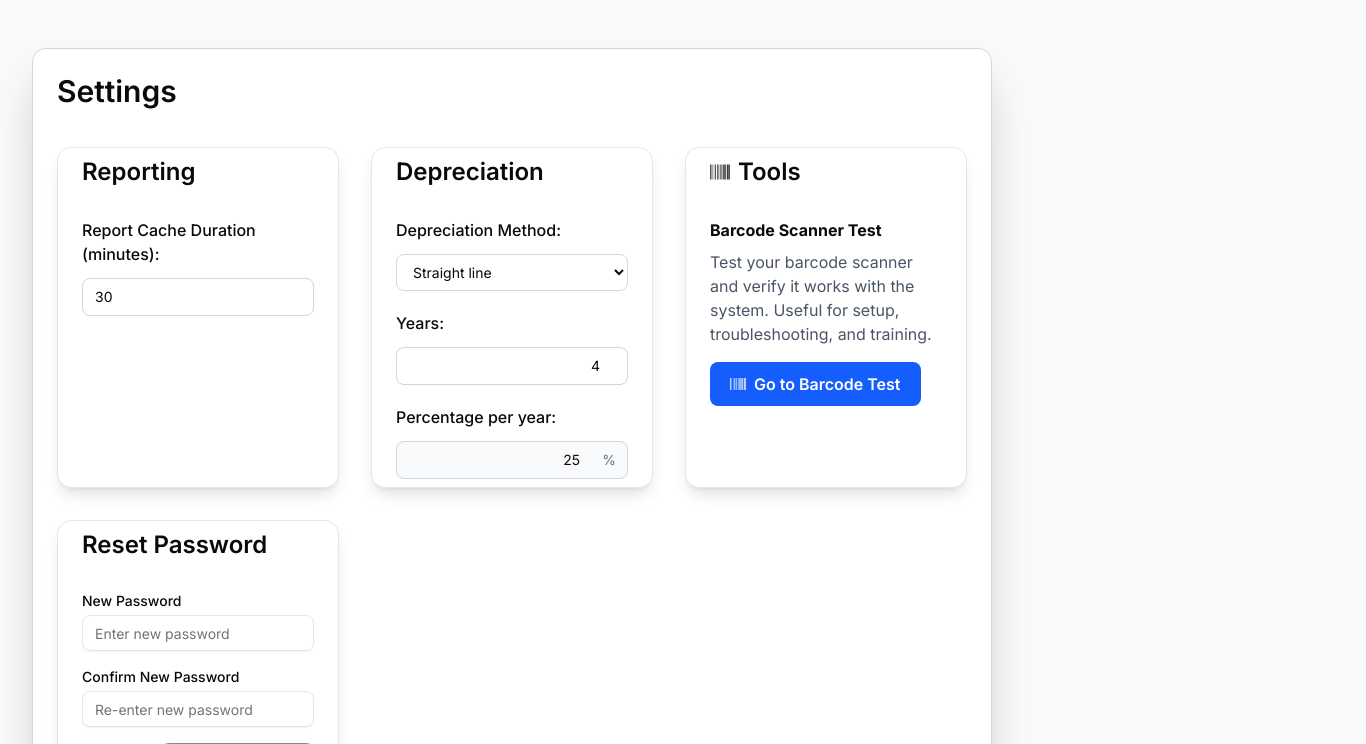
SettingsPage › allows changing and saving cache duration
The image size is (1366, 744).
Replace the text in the number field labelled "Report Cache Duration (minutes):" with "60": (198, 297) [82,278,314,316]
(page scrolled)
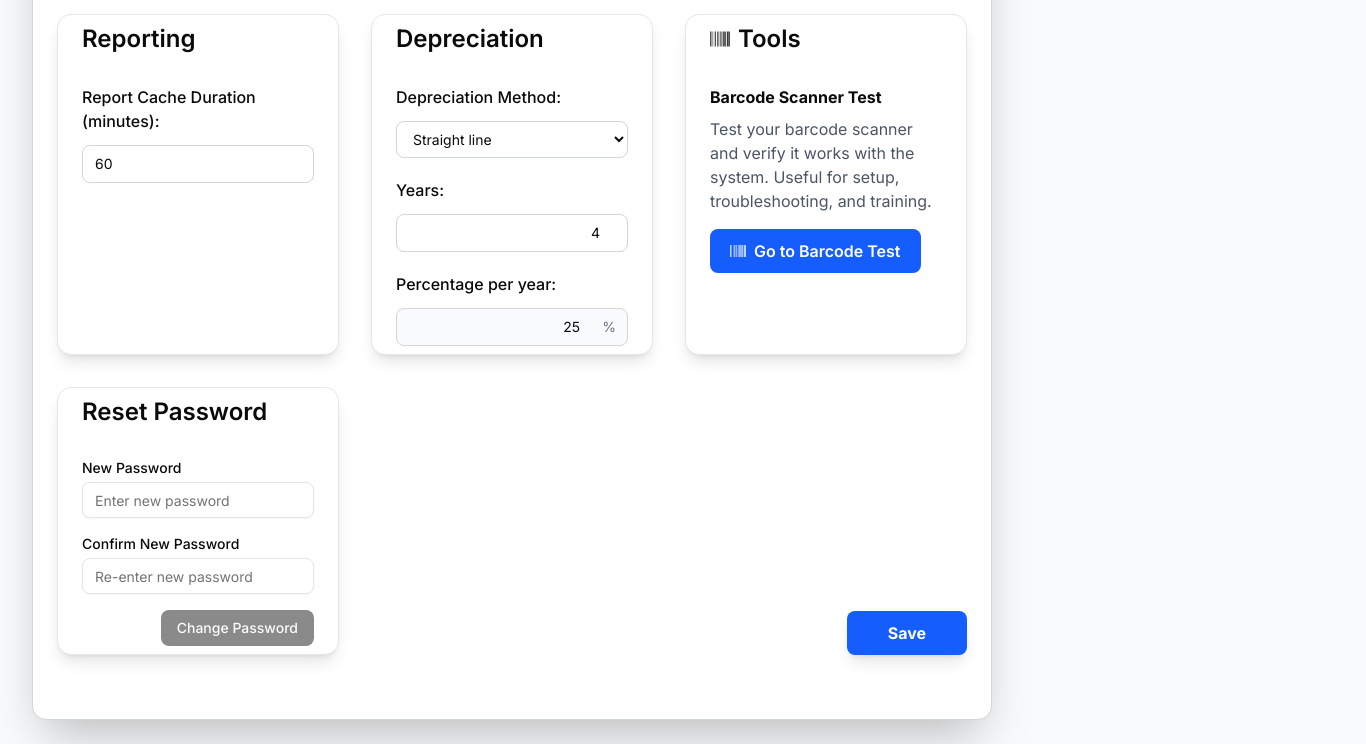
Click the button "Save": click(907, 633) [847,611,967,655]
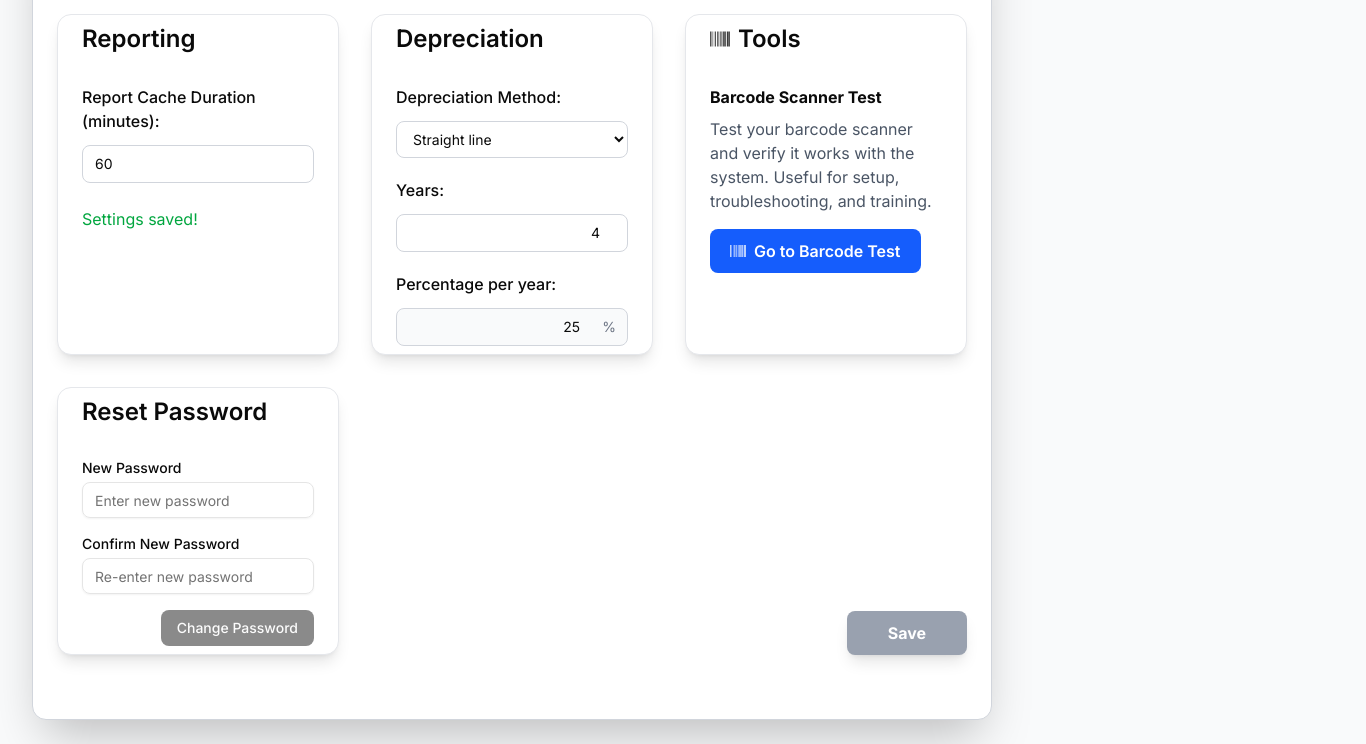
Expected: the text "Settings saved!" is shown, [82,209,198,229]
